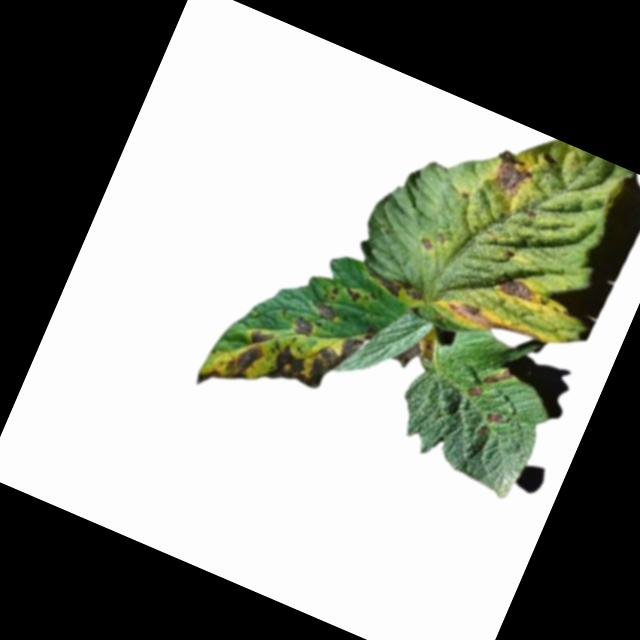Early_blight: (191, 278, 380, 446), (443, 295, 542, 353), (486, 146, 540, 205), (388, 327, 436, 380), (372, 269, 425, 309), (494, 270, 548, 308), (483, 363, 516, 394), (289, 313, 317, 341), (311, 298, 341, 324), (416, 232, 439, 255), (484, 409, 506, 429), (464, 383, 484, 403), (322, 283, 341, 303), (344, 286, 362, 304)
